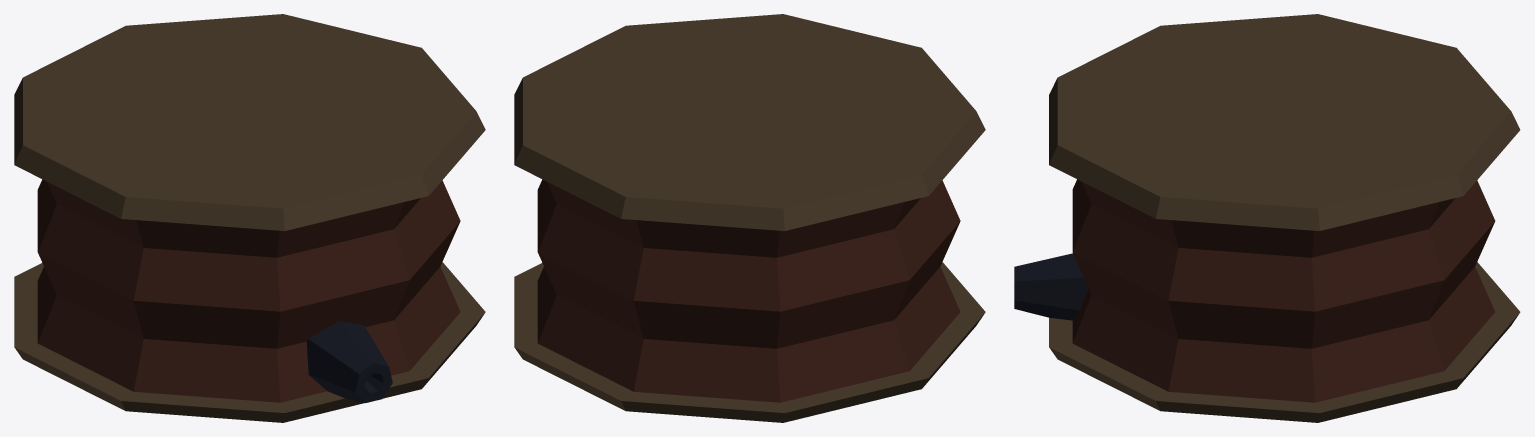
Rendered from BellowB.fbx.
3 renders of one model, left to right at view 1: azimuth 30°, elevation 25°; view 2: azimuth 150°, elevation 25°; view 3: azimuth 270°, elevation 25°, orthographic.
Visible parts, largest first — view 1: BellowB; view 2: BellowB; view 3: BellowB.
Boxes of the visible parts, x1,y1,x2,y2 form: BellowB: [14, 14, 485, 422]; BellowB: [514, 14, 985, 422]; BellowB: [1014, 14, 1520, 422].
Size of the model in its own units: 55.68 by 27.49 by 58.85.
